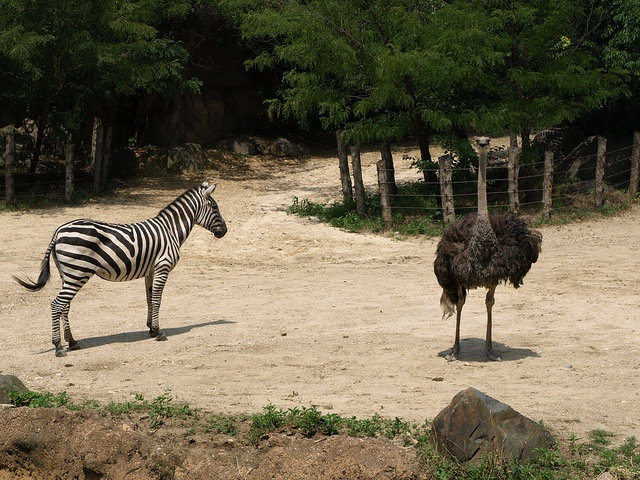zebra: (13, 177, 227, 357)
